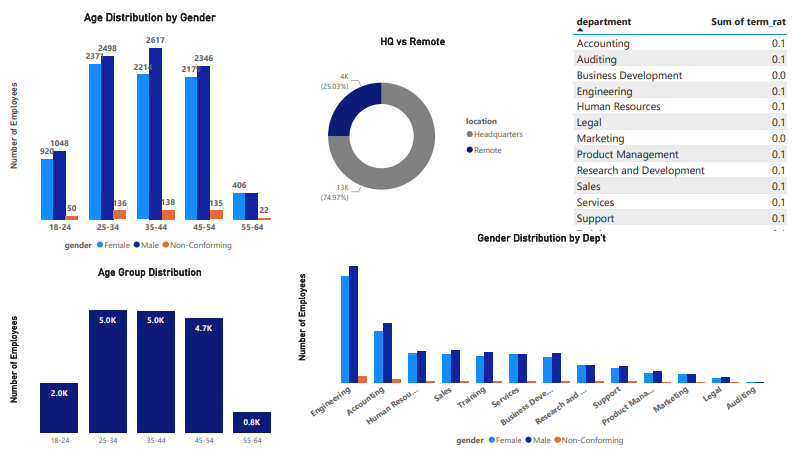

The page's visual inventory and layout, read from the dashboard file:
{"tool":"powerbi","page":{"name":"Page 2","canvas":[1280,720],"ordinal":1},"visuals":[{"type":"columnChart","title":"Age Group Distribution","fields":{"Category":["age_group.age_group"],"Y":["Sum(age_group.count)"]},"box":[0,417,470.7,302.8],"z":0},{"type":"clusteredColumnChart","title":"Age Distribution by Gender","fields":{"Category":["age_group_gender.age_group"],"Y":["Sum(age_group_gender.count)"],"Series":["age_group_gender.gender"]},"box":[0,0,470.7,400.5],"z":1000},{"type":"tableEx","fields":{"Values":["term_rate.department","Sum(term_rate.term_rate)"]},"box":[922.2,0,357.8,400.5],"z":2000},{"type":"clusteredColumnChart","title":"Gender Distribution by Dep''t","fields":{"Y":["Sum(gender_dept.count)"],"Category":["gender_dept.department"],"Series":["gender_dept.gender"]},"box":[470.7,360.6,809.3,359.2],"z":3000},{"type":"donutChart","title":"HQ vs Remote","fields":{"Category":["location.location"],"Y":["Sum(location.count)"]},"box":[470.7,39.9,388.1,311.1],"z":4000}]}

Visuals, with their boxes in screenshot pixels (x1, y1, x2, y2), scaled from the page's 1280x720 canvas onto the 792x450 screenshot:
"Age Group Distribution" columnChart: detection(0, 261, 291, 449)
"Age Distribution by Gender" clusteredColumnChart: detection(0, 0, 291, 250)
tableEx - term_rate.department x Sum(term_rate.term_rate): detection(571, 0, 791, 250)
"Gender Distribution by Dep''t" clusteredColumnChart: detection(291, 225, 791, 449)
"HQ vs Remote" donutChart: detection(291, 25, 531, 219)
